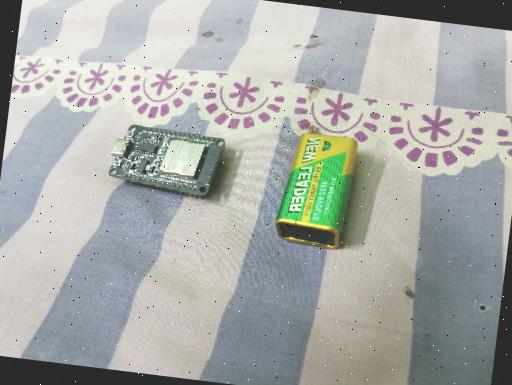Battery: (273, 128, 359, 249)
Esp32: (105, 120, 227, 202)
